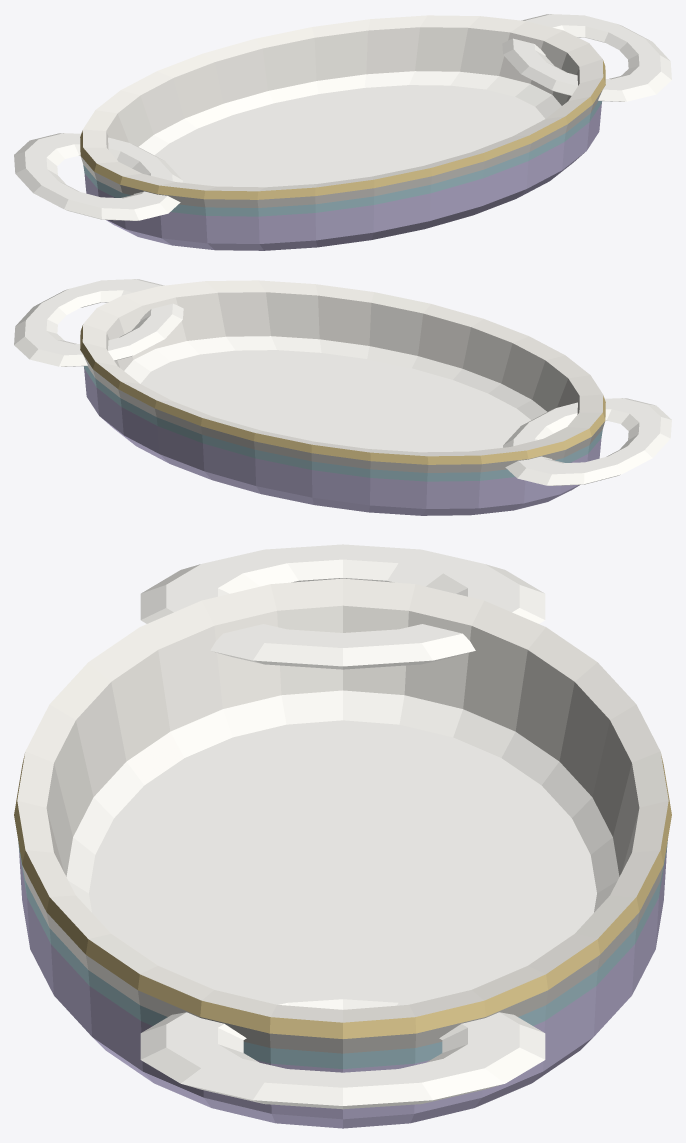
The model's file is tray.glb.
3 views of the same model, one above another, from view 1: azimuth 30°, elevation 25°; view 2: azimuth 150°, elevation 25°; view 3: azimuth 270°, elevation 25° (orthographic). The views are drawn at different scales.
Visible parts, largest first — view 1: tray_body, tray_handle_l, tray_handle_r; view 2: tray_body, tray_handle_l, tray_handle_r; view 3: tray_body, tray_handle_r, tray_handle_l.
Boxes of the visible parts, x1,y1,x2,y2 form: tray_body: [80, 15, 605, 250]; tray_handle_l: [14, 133, 182, 220]; tray_handle_r: [502, 14, 671, 101]; tray_body: [80, 280, 605, 515]; tray_handle_l: [503, 398, 671, 485]; tray_handle_r: [14, 279, 183, 366]; tray_body: [14, 578, 671, 1128]; tray_handle_r: [140, 984, 545, 1109]; tray_handle_l: [140, 544, 545, 669].
Size of the model in its own units: 2.52 by 0.27 by 1.25.
